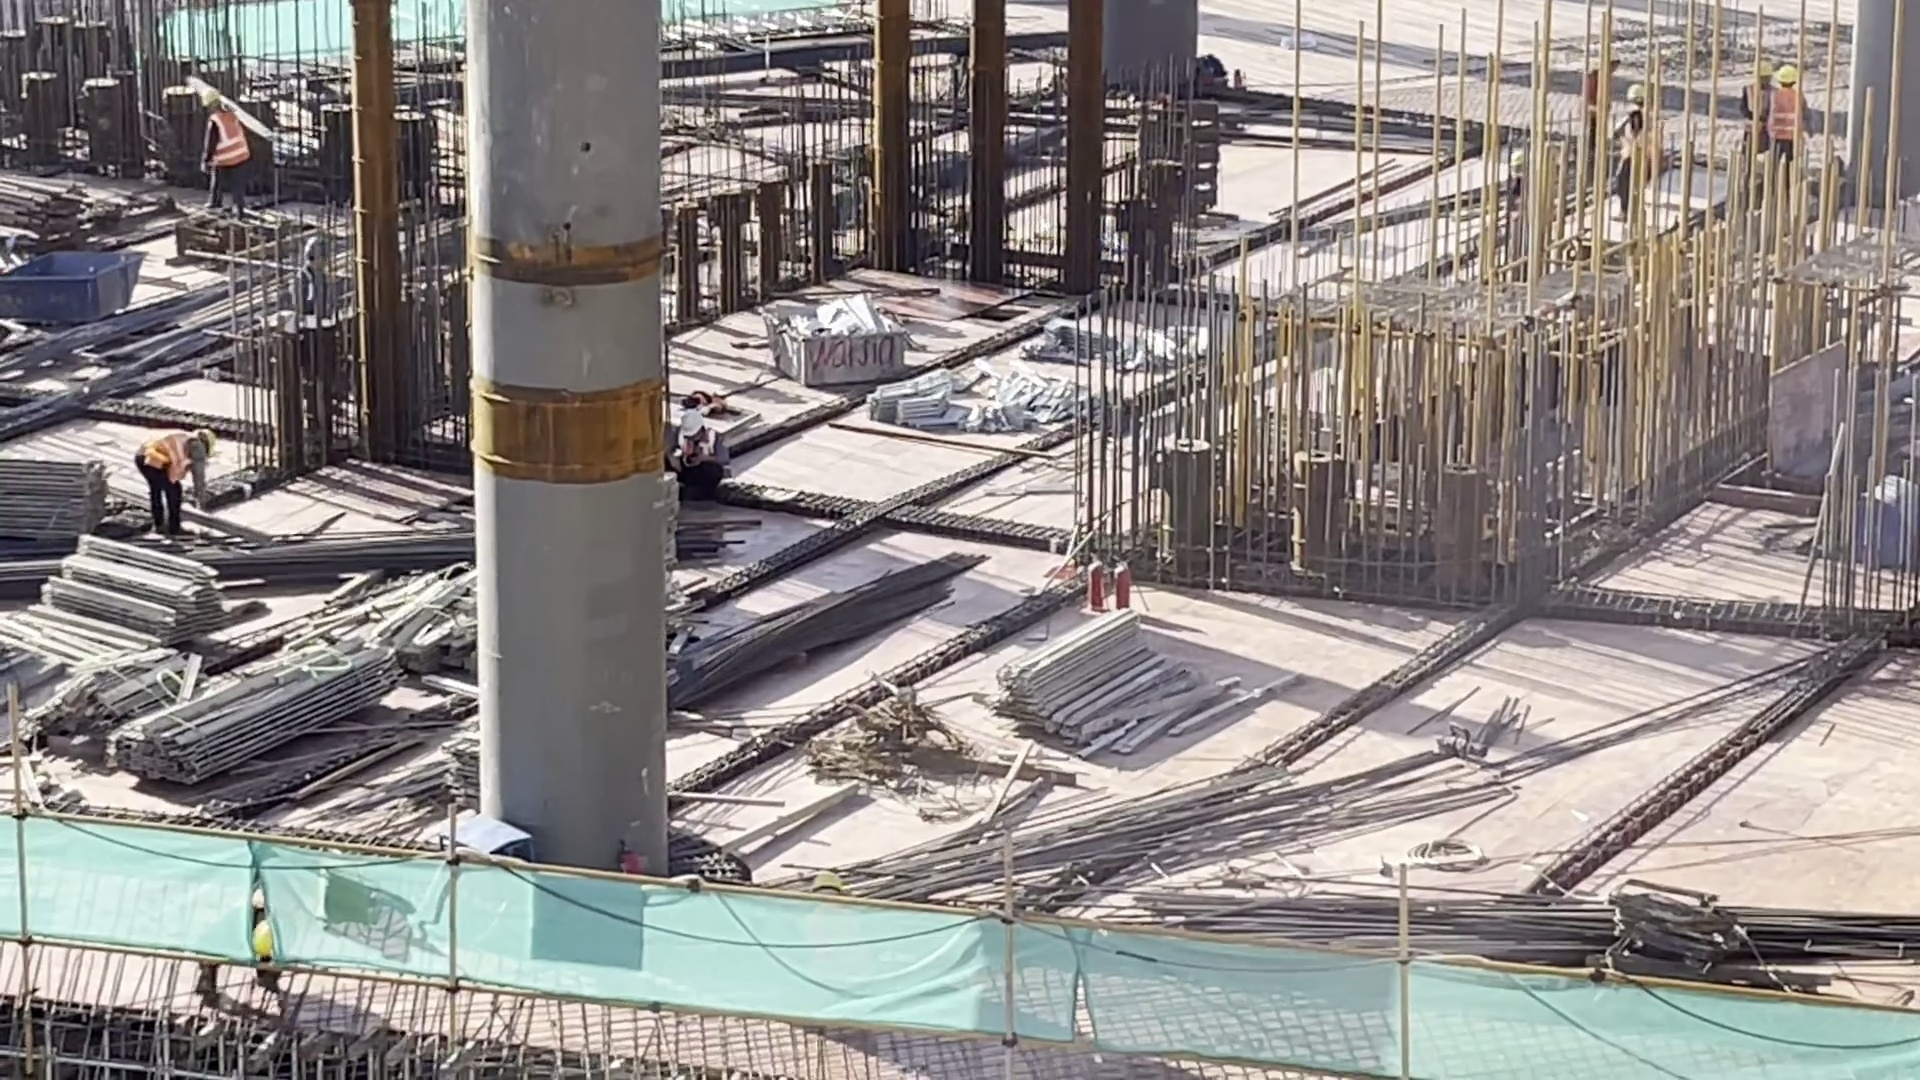helmet: (673, 404, 710, 443), (192, 80, 217, 112), (1774, 61, 1799, 90), (197, 419, 215, 449)
hopper: (758, 274, 919, 382), (1, 249, 155, 337)
person: (122, 402, 237, 543), (1743, 38, 1819, 186), (182, 75, 252, 227), (660, 398, 736, 516)
vest: (136, 422, 217, 515), (199, 95, 244, 171)
wood: (104, 638, 385, 789), (997, 608, 1197, 752), (40, 520, 232, 657), (1, 460, 110, 557)
